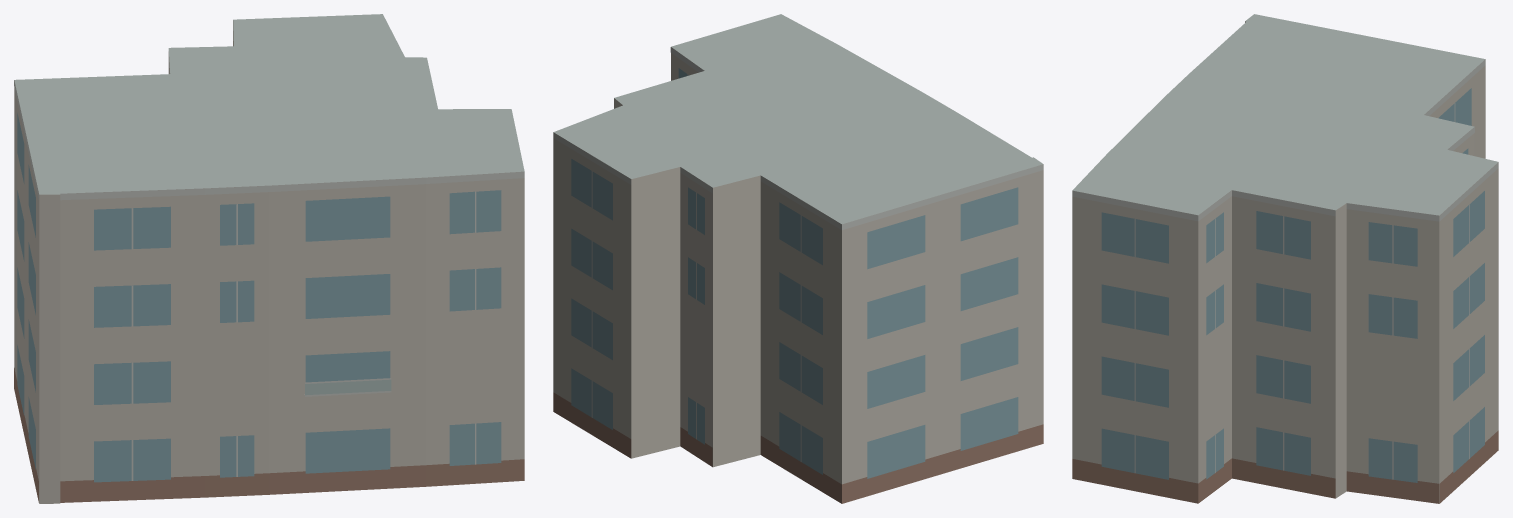
The model's file is survey-upis-33010441.glb.
3 views of the same model, side by side, from view 1: azimuth 30°, elevation 25°; view 2: azimuth 150°, elevation 25°; view 3: azimuth 270°, elevation 25° (orthographic). The views are drawn at different scales.
Parts seen in each view (by area): view 1: survey-upis-33010441.tmp; view 2: survey-upis-33010441.tmp; view 3: survey-upis-33010441.tmp.
Boxes of the visible parts, box(x1,y1,x2,y2) form: survey-upis-33010441.tmp: box(14, 14, 524, 503); survey-upis-33010441.tmp: box(553, 14, 1043, 503); survey-upis-33010441.tmp: box(1072, 14, 1498, 503).
Bounding box in the file's own units: 17.4 × 11.6 × 15.56.
